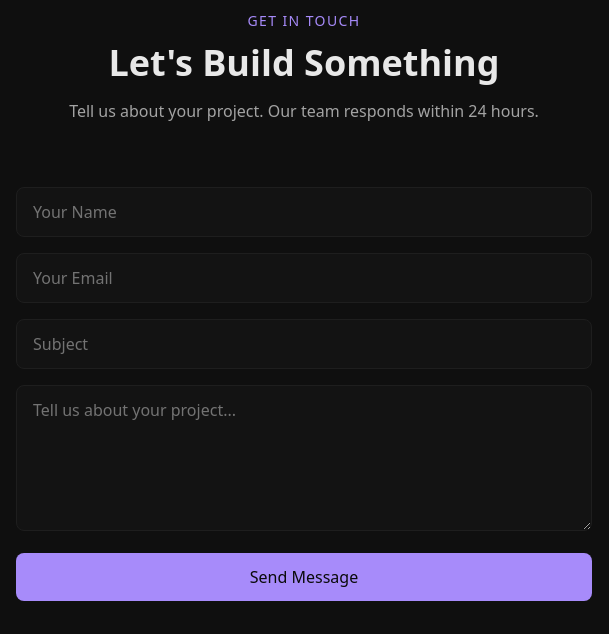
Test: Contact Component › shows validation errors for empty fields
The width and height of the screenshot is (609, 634).
Click the button "Send Message": (304, 577) x1=16 y1=553 x2=592 y2=601
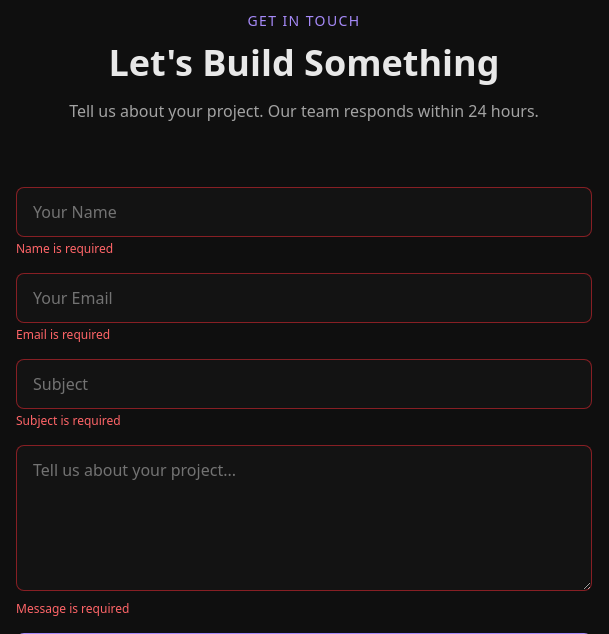
Now the text "Name is required" is shown, box x1=16 y1=240 x2=113 y2=257
Now the text "Email is required" is shown, box x1=16 y1=326 x2=110 y2=343
Now the text "Subject is required" is shown, box x1=16 y1=412 x2=121 y2=429
